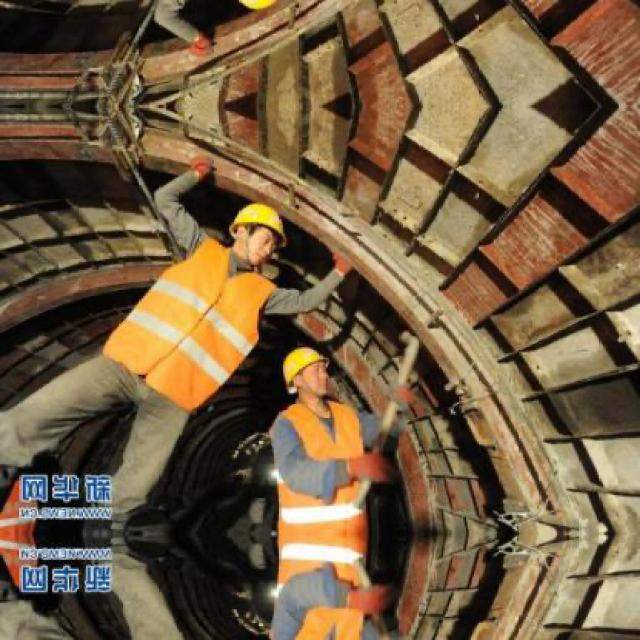helmet: (224, 198, 290, 266), (280, 342, 335, 400), (225, 0, 292, 17)
